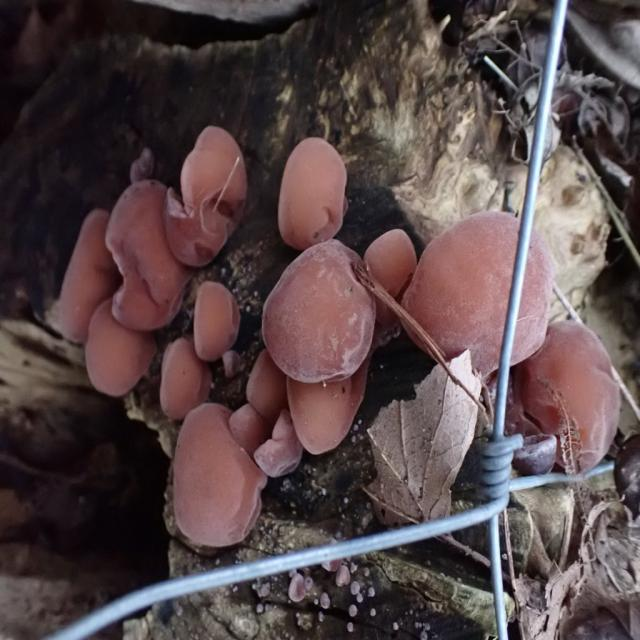Matang: (387, 208, 560, 374), (260, 238, 381, 389), (506, 318, 624, 472), (170, 398, 272, 552), (163, 121, 253, 273), (110, 175, 191, 332), (54, 203, 126, 347), (272, 130, 350, 247), (282, 368, 370, 464), (82, 289, 160, 392), (367, 230, 418, 334), (159, 334, 212, 418), (194, 272, 242, 364), (258, 404, 306, 485), (248, 353, 293, 419), (230, 399, 269, 457)
primordia: (220, 344, 239, 384)
